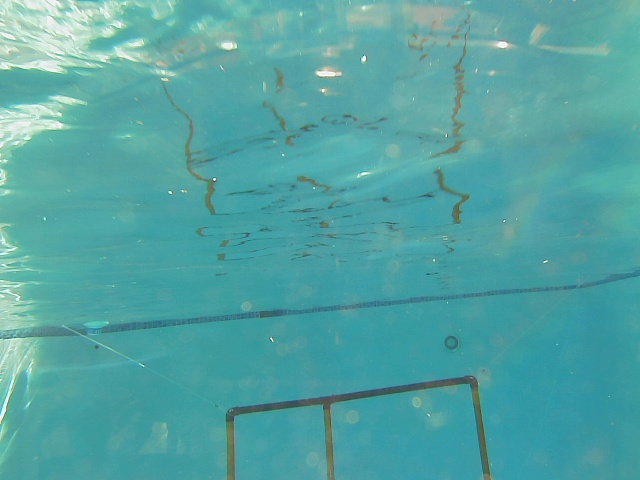Gate: (469, 382, 494, 480), (224, 410, 238, 480), (325, 403, 335, 480)
